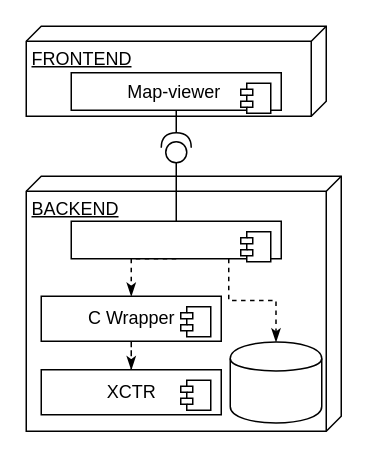
Some shapes in this 368 by 458 pixel diagram are drawn without their labels. The centre of each missing label's shape, as x and y in pixels:
"GO Handler" belongs at point (175, 239).
"SQLite" belongs at point (275, 381).
